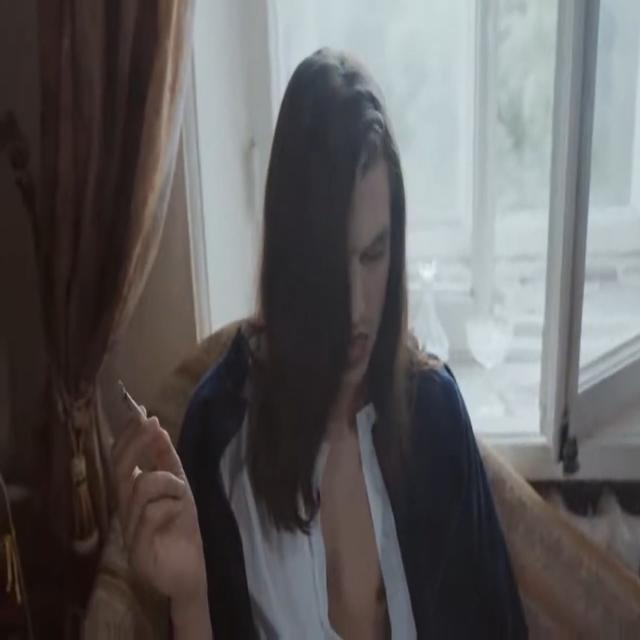Курение: (115, 375, 150, 428)
